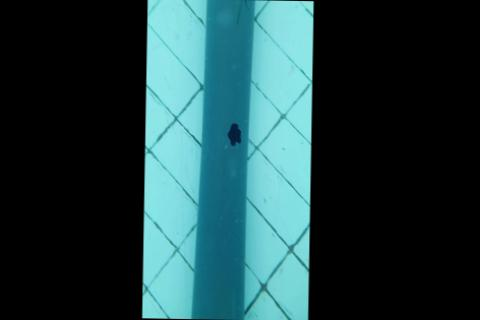kebocoran: (225, 120, 241, 147)
keretakan: (235, 0, 249, 27)
